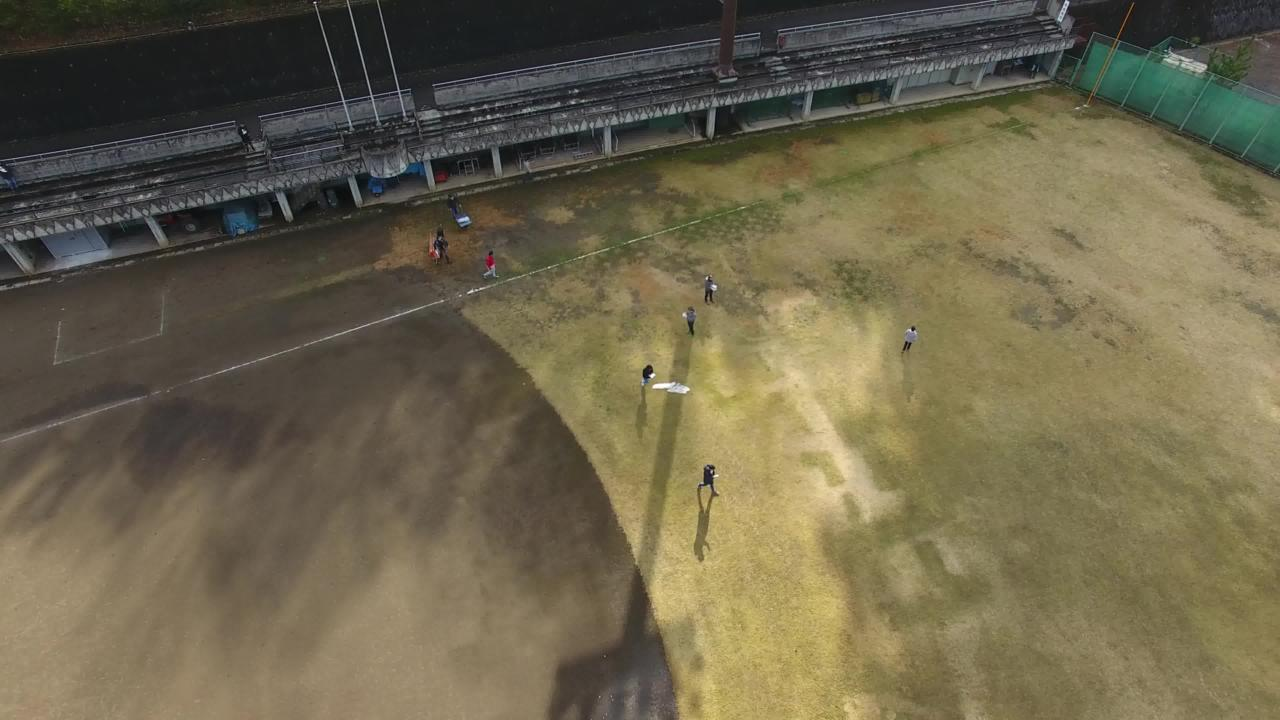person: (895, 320, 919, 357), (698, 272, 722, 309), (674, 305, 698, 342), (637, 358, 661, 395), (697, 462, 721, 499), (233, 118, 257, 155), (441, 186, 465, 223), (479, 247, 503, 284), (428, 230, 452, 267), (1, 159, 24, 196)
